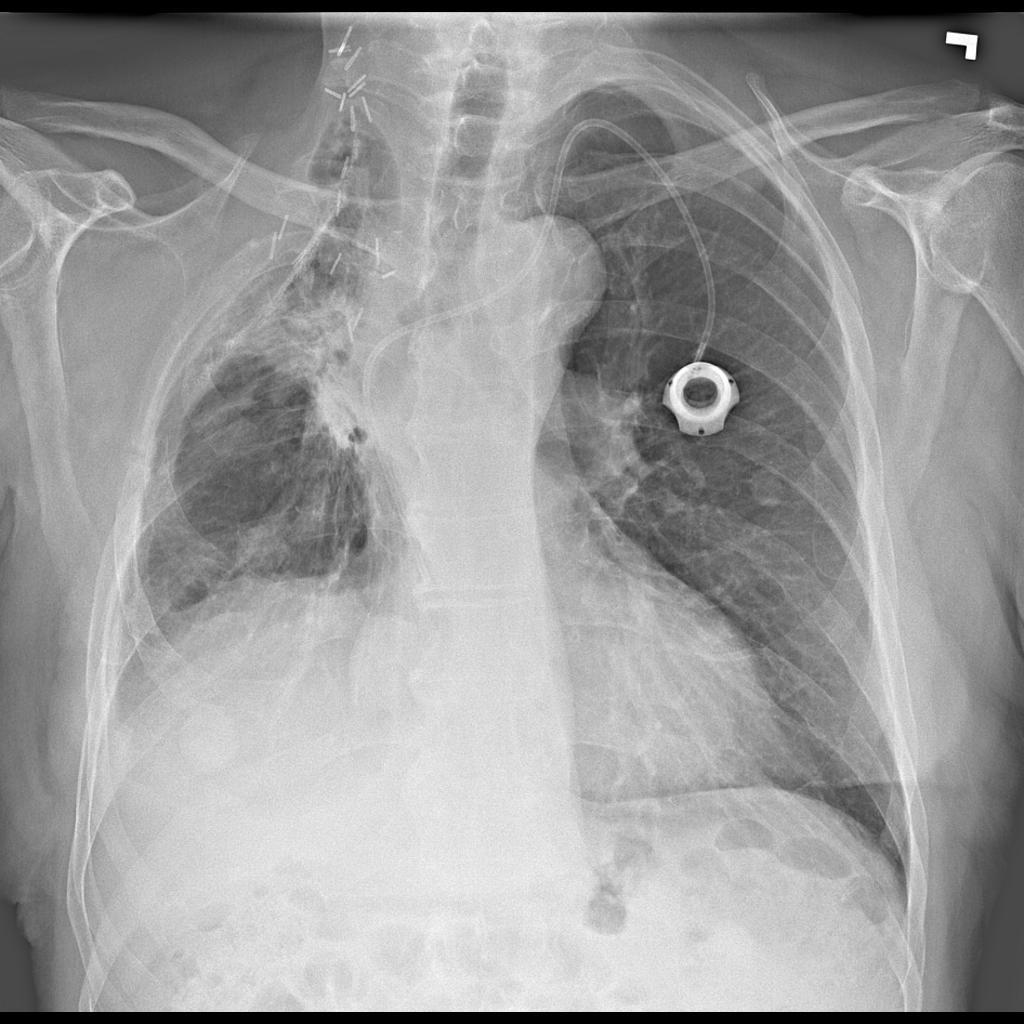Nodule: (738, 464, 797, 525)
